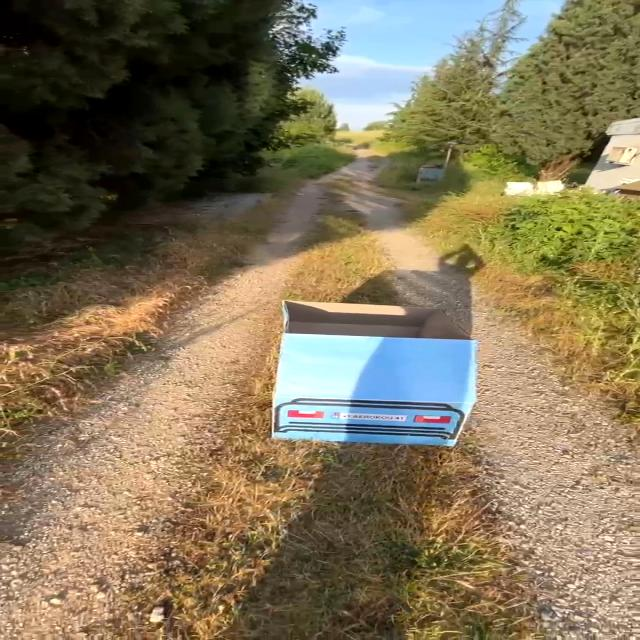blue_car: (213, 274, 512, 468)
